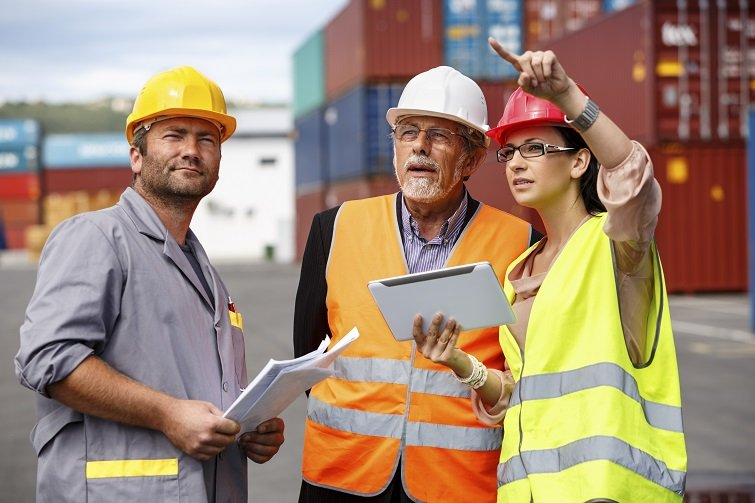epi: (27, 65, 286, 502), (293, 59, 500, 502), (484, 37, 676, 503)
